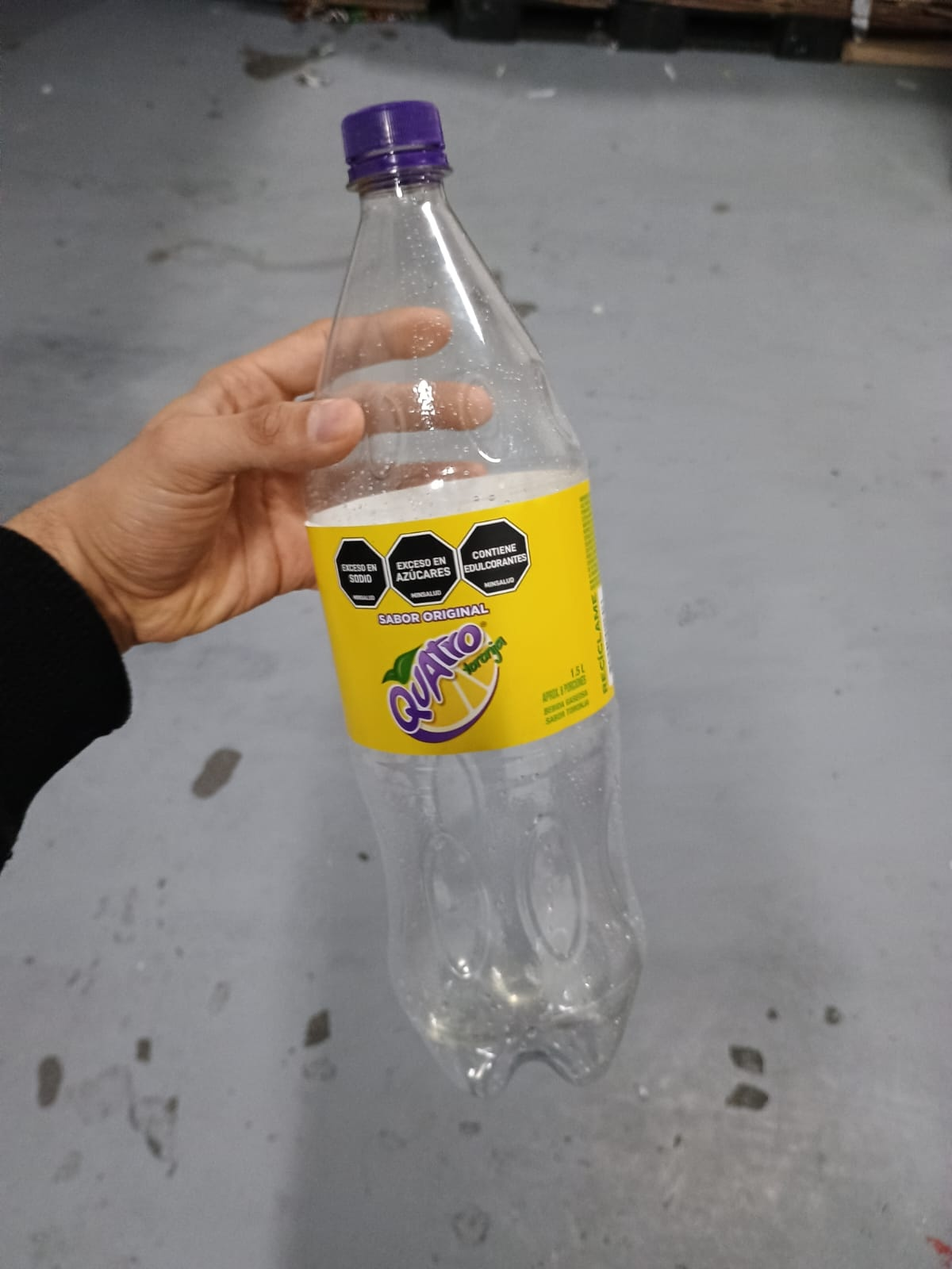Plastico: (301, 103, 651, 1101)
